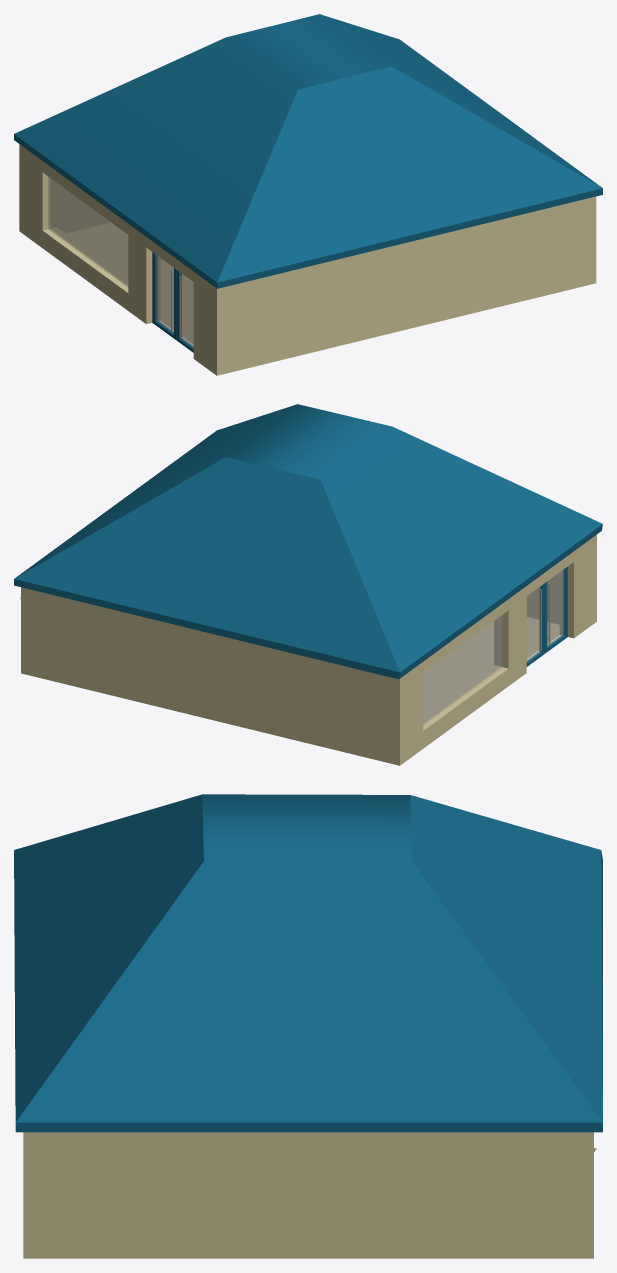
Rendered from teppichladen.fbx.
3 renders of one model, top to bottom at view 1: azimuth 30°, elevation 25°; view 2: azimuth 150°, elevation 25°; view 3: azimuth 270°, elevation 25°, orthographic. The views are drawn at different scales.
Parts seen in each view (by area): view 1: roof, house, window2, pasted__doorInset, pasted__pasted__doorInset, pasted__door1, lochfueller; view 2: roof, house, window2, pasted__pasted__doorInset, pasted__doorInset, pasted__pasted__door1, lochfueller; view 3: roof, house.
Part boxes in pixels (left/top/right/bottom): roof: left=14, top=14, right=602, bottom=288; house: left=19, top=144, right=596, bottom=375; window2: left=48, top=177, right=128, bottom=286; pasted__doorInset: left=156, top=255, right=173, bottom=333; pasted__pasted__doorInset: left=180, top=273, right=193, bottom=347; pasted__door1: left=152, top=252, right=176, bottom=340; lochfueller: left=145, top=237, right=194, bottom=282; roof: left=14, top=404, right=602, bottom=679; house: left=20, top=534, right=596, bottom=765; window2: left=423, top=615, right=502, bottom=724; pasted__pasted__doorInset: left=547, top=569, right=564, bottom=646; pasted__doorInset: left=526, top=586, right=540, bottom=661; pasted__pasted__door1: left=544, top=566, right=567, bottom=653; lochfueller: left=526, top=551, right=574, bottom=596; roof: left=14, top=794, right=602, bottom=1132; house: left=23, top=1132, right=596, bottom=1258.
Bounding box in the file's own units: 12.83 × 6.54 × 11.73.
